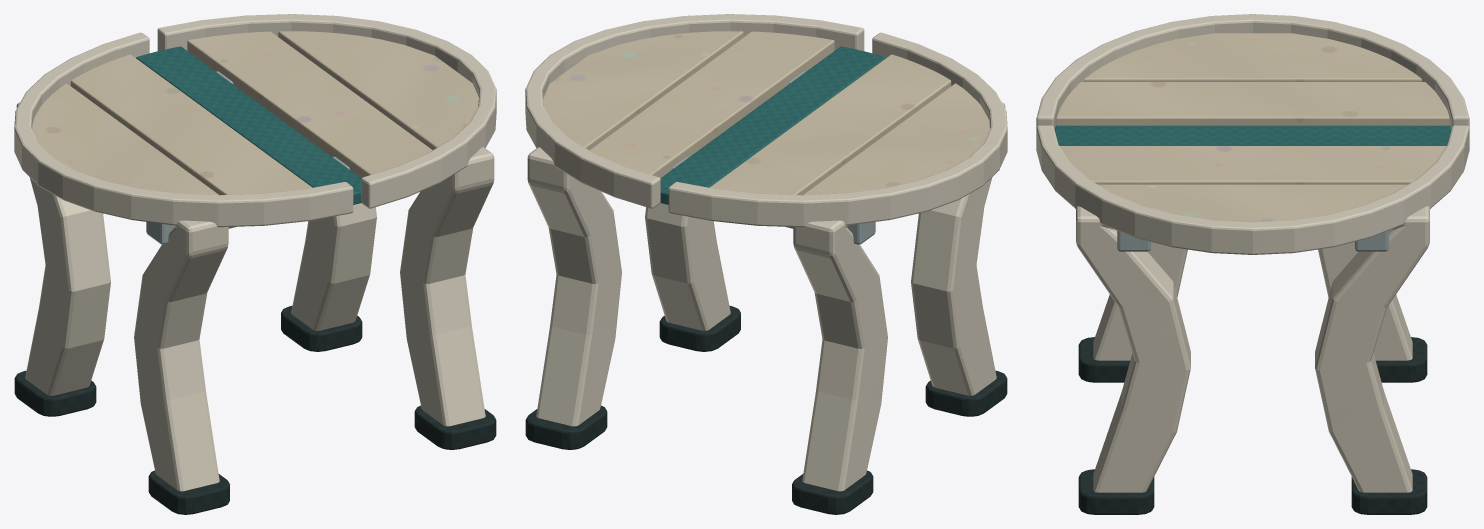
The model's file is AST-AQU-002.glb.
3 views of the same model, side by side, from view 1: azimuth 30°, elevation 25°; view 2: azimuth 150°, elevation 25°; view 3: azimuth 270°, elevation 25° (orthographic).
Parts seen in each view (by area): view 1: AST-AQU-002__ivory_enamel, AST-AQU-002__warm_stone, AST-AQU-002__aquatic_teal_sling, AST-AQU-002__aquatic_dark_grip, AST-AQU-002__aquatic_satin_alloy; view 2: AST-AQU-002__ivory_enamel, AST-AQU-002__warm_stone, AST-AQU-002__aquatic_teal_sling, AST-AQU-002__aquatic_dark_grip, AST-AQU-002__aquatic_satin_alloy; view 3: AST-AQU-002__ivory_enamel, AST-AQU-002__warm_stone, AST-AQU-002__aquatic_teal_sling, AST-AQU-002__aquatic_dark_grip, AST-AQU-002__aquatic_satin_alloy.
Boxes of the visible parts, x1,y1,x2,y2 form: AST-AQU-002__ivory_enamel: (14,14,496,491); AST-AQU-002__warm_stone: (32,31,478,195); AST-AQU-002__aquatic_teal_sling: (136,46,361,204); AST-AQU-002__aquatic_dark_grip: (14,305,496,514); AST-AQU-002__aquatic_satin_alloy: (146,71,349,244); AST-AQU-002__ivory_enamel: (525,14,1007,491); AST-AQU-002__warm_stone: (543,31,989,195); AST-AQU-002__aquatic_teal_sling: (660,46,885,204); AST-AQU-002__aquatic_dark_grip: (525,305,1007,514); AST-AQU-002__aquatic_satin_alloy: (672,71,875,244); AST-AQU-002__ivory_enamel: (1036,14,1469,492); AST-AQU-002__warm_stone: (1056,33,1449,222); AST-AQU-002__aquatic_teal_sling: (1054,125,1451,145); AST-AQU-002__aquatic_dark_grip: (1078,337,1427,514); AST-AQU-002__aquatic_satin_alloy: (1117,230,1388,251).
Size of the model in its own units: 0.666 by 0.453 by 0.565.
5 materials, 5 textured.
